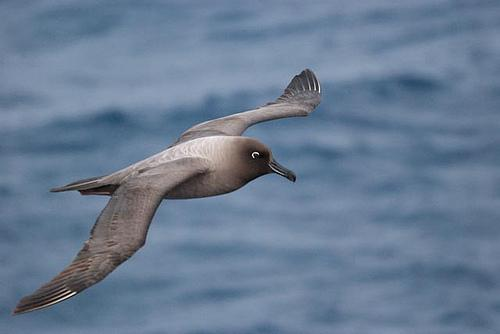003.Sooty_Albatross: (12, 69, 322, 318)
